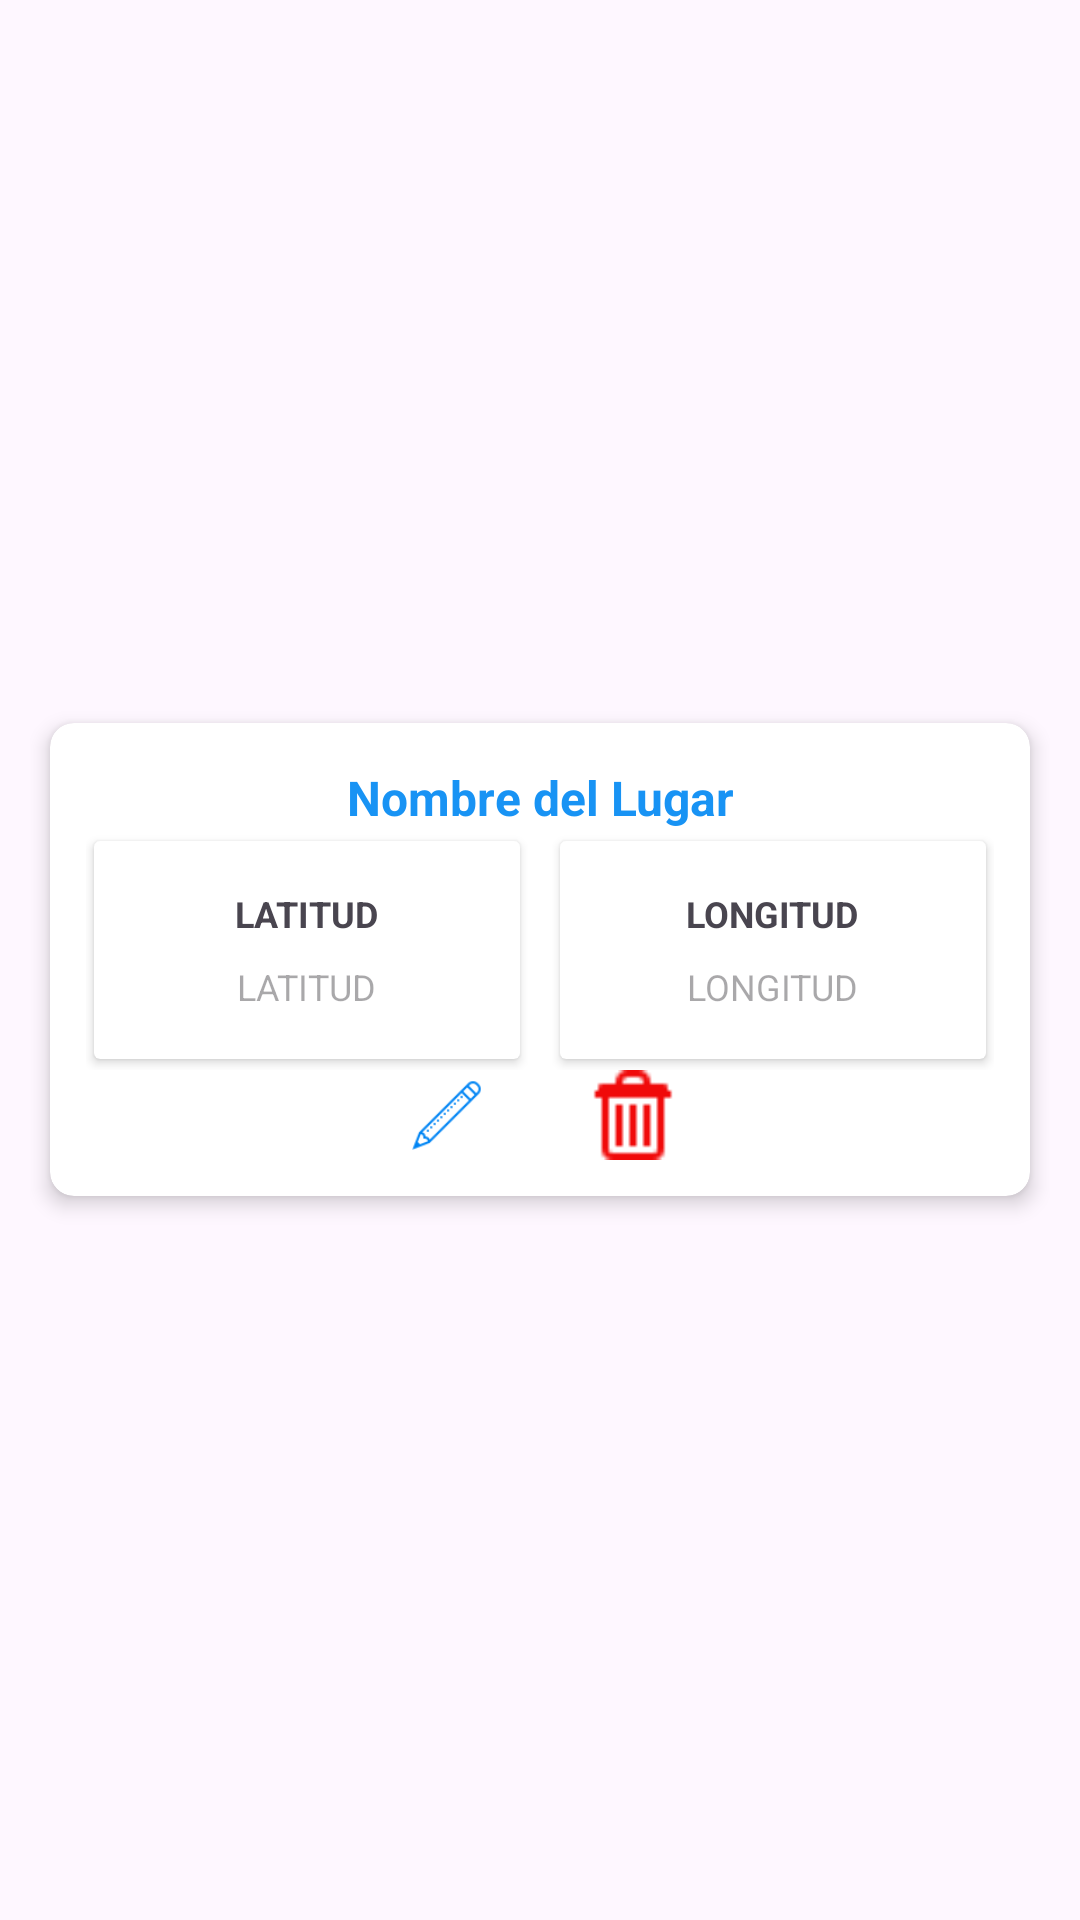

Named icons in this screenshot (1080×1920) and their bounding boxes, bbox=(x1, y1, x2, y2):
Editar: bbox=(412, 1081, 481, 1150)
Eliminar: bbox=(594, 1070, 672, 1160)
